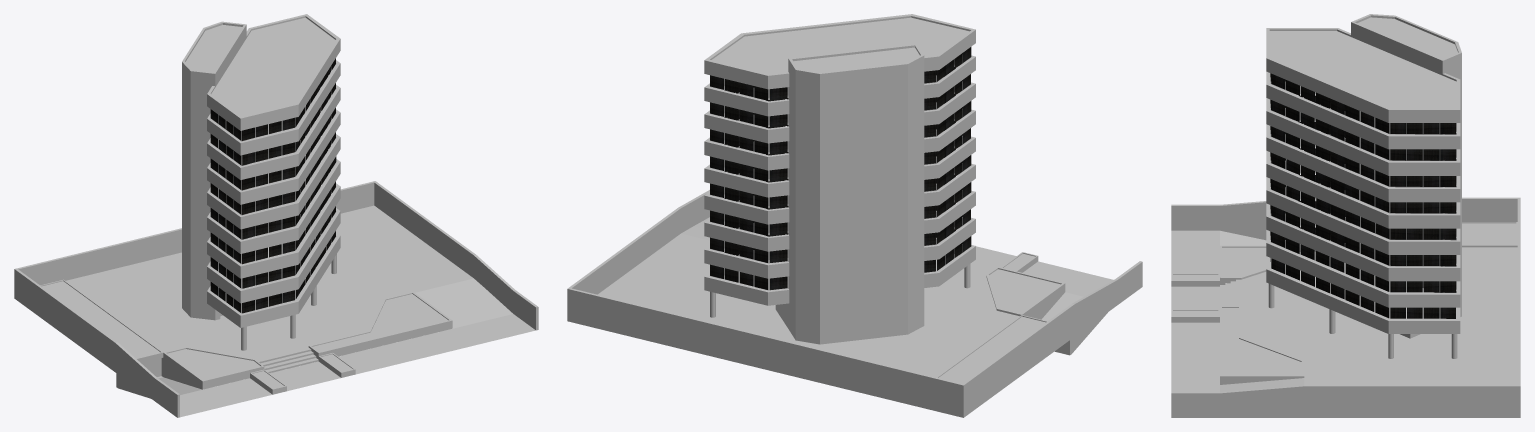
The picture shows the model from 3 angles, left to right: view 1: azimuth 30°, elevation 25°; view 2: azimuth 150°, elevation 25°; view 3: azimuth 270°, elevation 25°; orthographic projection. The views are drawn at different scales.
Parts seen in each view (by area): view 1: BB-070; view 2: BB-070; view 3: BB-070.
Part boxes in pixels (x1,y1,x2,y2): BB-070: (14,14,538,417); BB-070: (567,14,1142,417); BB-070: (1171,14,1520,417).
Size of what is drawn, in the model's own units: 46 by 32.8 by 36.
